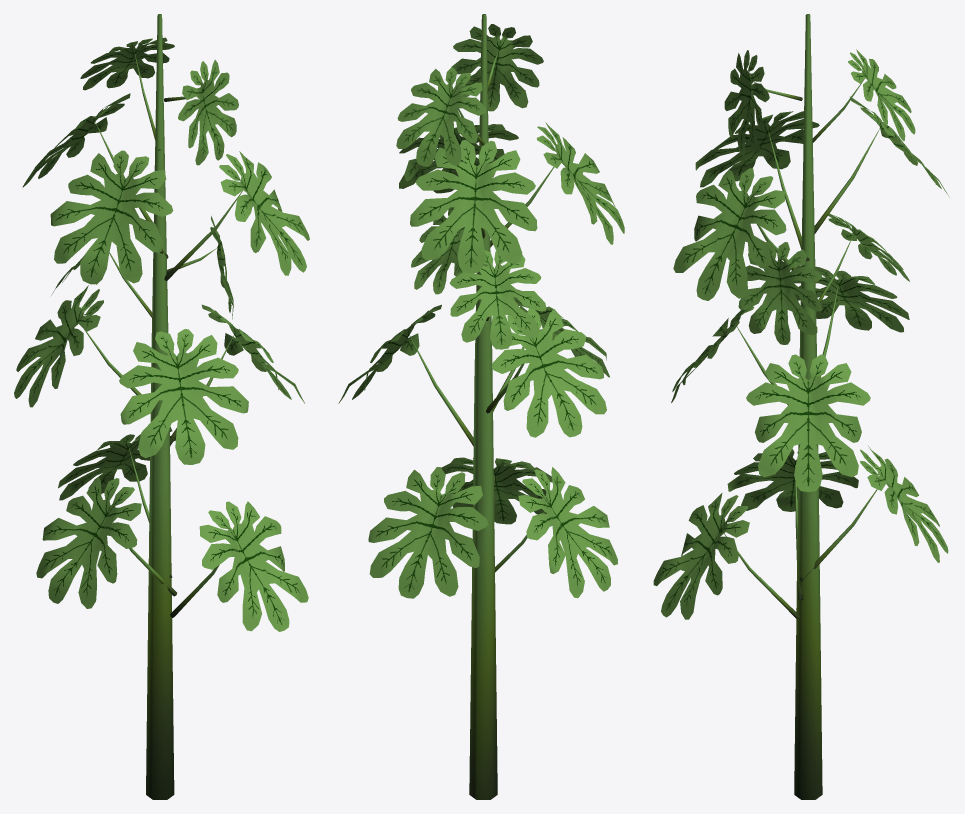
The model's file is Cecropia spp.fbx.
The picture shows the model from 3 angles, left to right: view 1: azimuth 30°, elevation 25°; view 2: azimuth 150°, elevation 25°; view 3: azimuth 270°, elevation 25°; orthographic projection.
Parts seen in each view (by area): view 1: base stem.006; view 2: base stem.006; view 3: base stem.006.
Boxes of the visible parts, x1,y1,x2,y2 form: base stem.006: (14, 14, 309, 799); base stem.006: (338, 14, 624, 799); base stem.006: (653, 14, 949, 799).
Bounding box in the file's own units: 520 × 1528 × 528.
